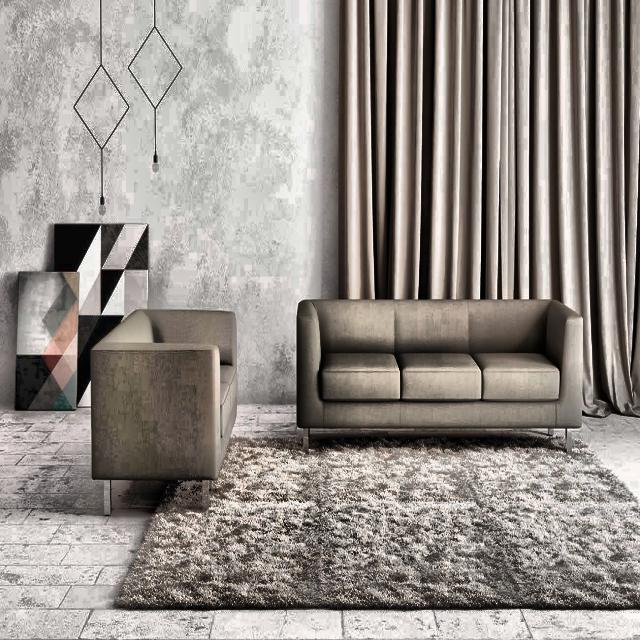sofa: (296, 296, 584, 451), (90, 308, 237, 516)
